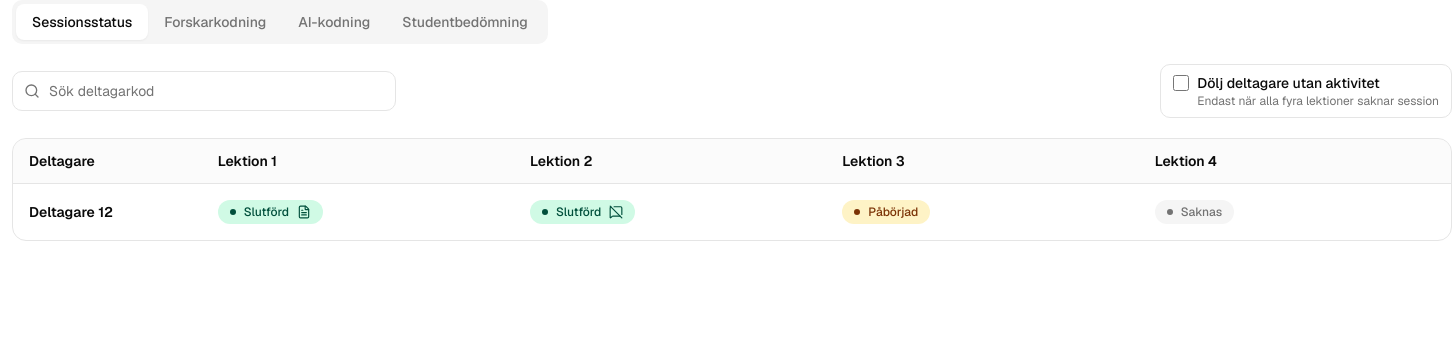
Test: OverviewTable › marks in the status badge whether a lesson has a transcript or the student did not use Gemini
Check: the 2nd icon is shown, box 297,205 -> 311,219
Check: the link "Påbörjad" is shown, box 842,200 -> 930,224
Click the tab "Forskarkodning" at coordinates (215, 22), box 148,4 -> 282,40
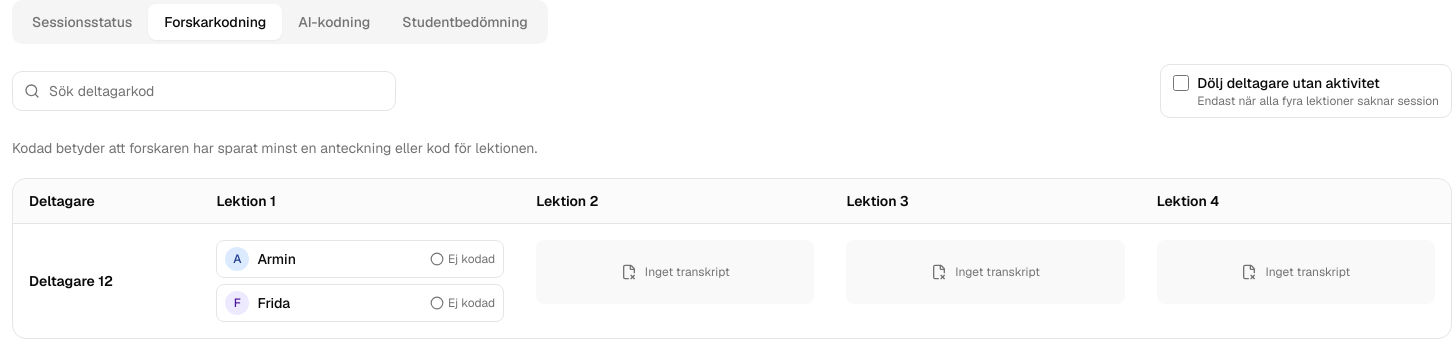
Check: the element titled "Transkript" is gone
